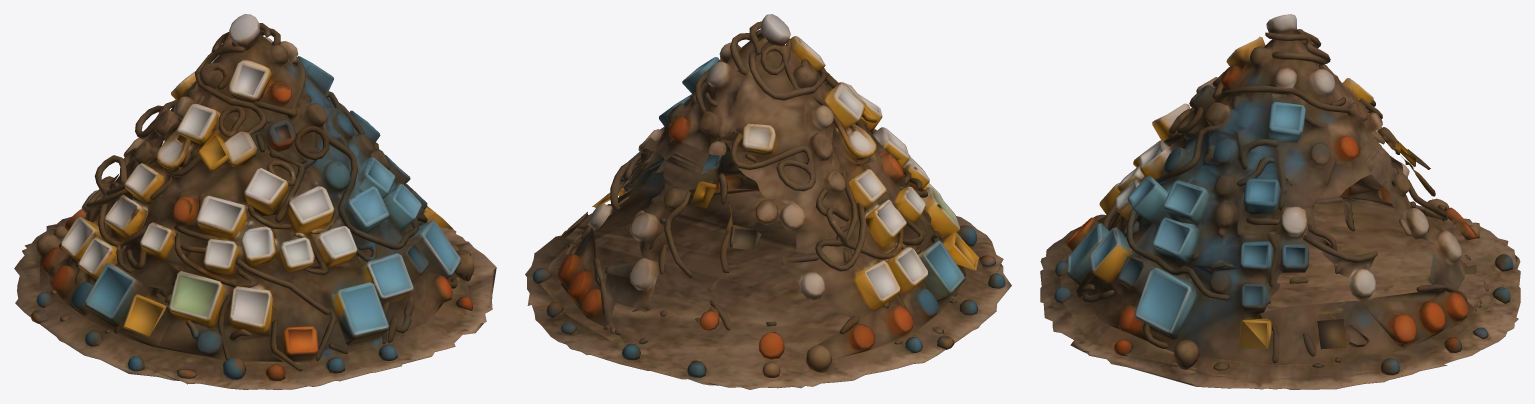
The model's file is Misc__pile_of_junk_16785067_v2.cluster.glb.
3 views of the same model, side by side, from view 1: azimuth 30°, elevation 25°; view 2: azimuth 150°, elevation 25°; view 3: azimuth 270°, elevation 25° (orthographic).
Parts seen in each view (by area): view 1: material; view 2: material; view 3: material.
Boxes of the visible parts, <box> form: material: <box>14,14,496,389</box>; material: <box>525,14,1011,389</box>; material: <box>1040,14,1520,389</box>.
Bounding box in the file's own units: 1.89 × 1.19 × 1.9.
1 material, 1 textured.
